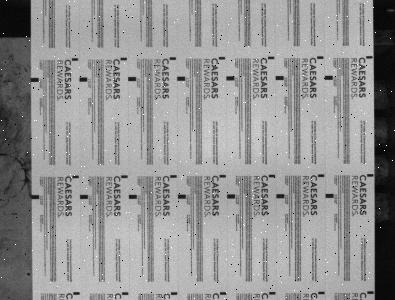backgroundclutter: (27, 272, 31, 275)
qblock: (325, 193, 334, 198), (325, 75, 333, 80), (79, 77, 87, 82), (177, 76, 185, 81), (129, 194, 137, 199), (80, 194, 88, 199), (178, 194, 186, 199), (275, 76, 284, 80), (226, 76, 235, 80), (227, 194, 236, 198), (276, 194, 285, 198), (31, 78, 39, 82), (128, 77, 136, 81), (31, 195, 39, 199)
smallqblock: (170, 174, 177, 178), (219, 174, 226, 178), (219, 56, 225, 60), (268, 56, 275, 59), (317, 56, 324, 59), (366, 56, 373, 59), (269, 174, 276, 177), (72, 175, 79, 178), (367, 291, 374, 294), (269, 292, 276, 295), (171, 292, 178, 295), (220, 292, 227, 295), (318, 291, 325, 294), (73, 292, 80, 295), (367, 174, 374, 177), (72, 58, 78, 61), (170, 57, 176, 60), (122, 292, 128, 295), (121, 175, 127, 178), (318, 174, 324, 177), (121, 58, 127, 60)
